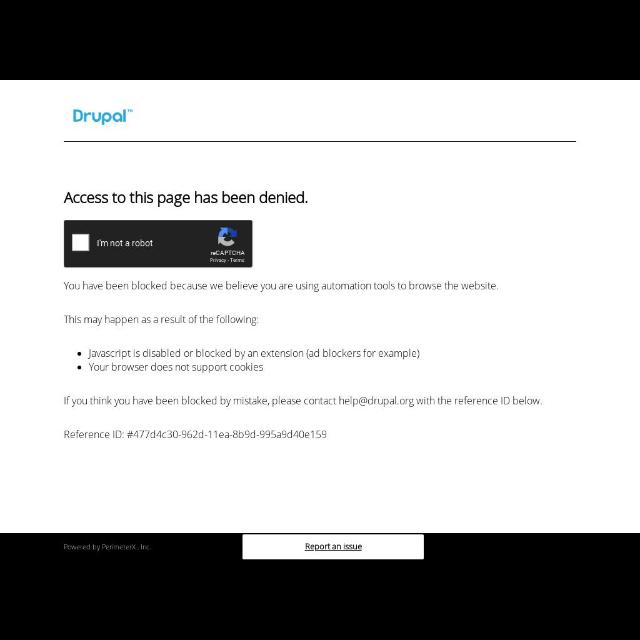checkbox: (72, 234, 88, 252)
icon: (77, 352, 81, 356), (77, 366, 81, 369)
image: (210, 227, 244, 263), (73, 109, 133, 125)
text: (64, 397, 542, 408), (64, 281, 498, 293), (65, 192, 308, 208), (88, 350, 420, 360), (64, 429, 326, 439), (64, 316, 258, 326), (89, 362, 264, 373), (65, 544, 152, 552), (97, 239, 153, 247), (306, 544, 362, 552)
textbutton: (242, 535, 423, 559)
